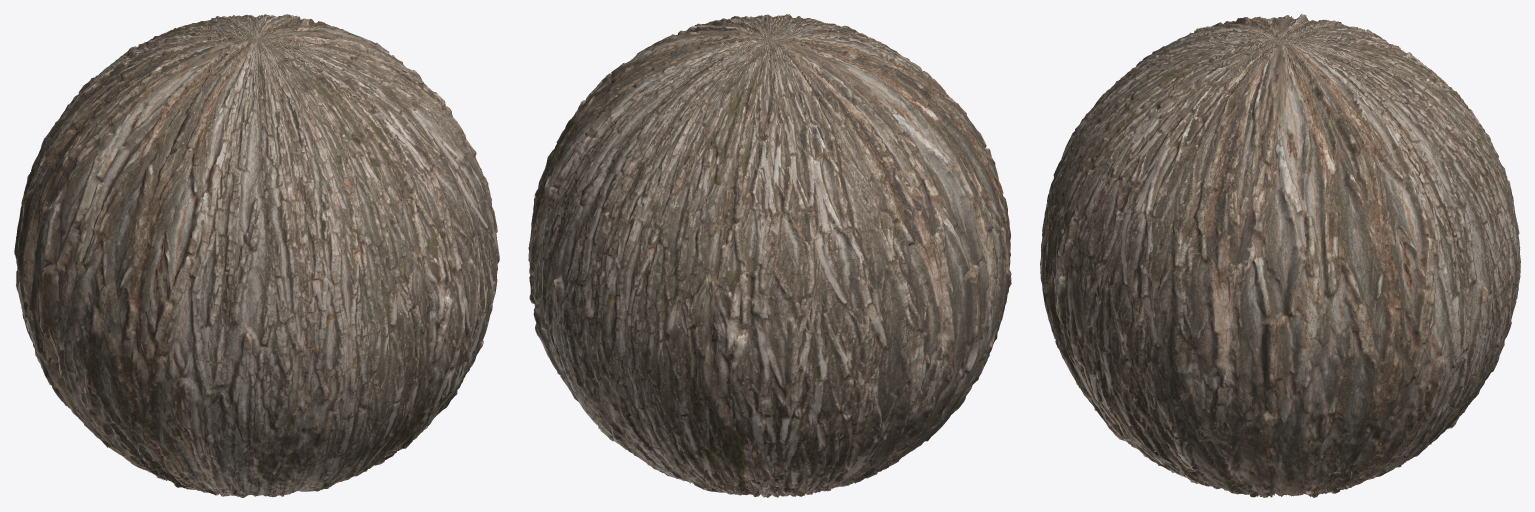
The model's file is bark_willow_02_2k.gltf.
3 views of the same model, side by side, from view 1: azimuth 30°, elevation 25°; view 2: azimuth 150°, elevation 25°; view 3: azimuth 270°, elevation 25° (orthographic).
Visible parts, largest first — view 1: sphere_gltf; view 2: sphere_gltf; view 3: sphere_gltf.
Part boxes in pixels (x1,y1,x2,y2): sphere_gltf: (14,14,499,497); sphere_gltf: (528,14,1011,497); sphere_gltf: (1040,14,1520,497).
Bounding box in the file's own units: 2.21 × 2.19 × 2.17.
1 material, 1 textured.
